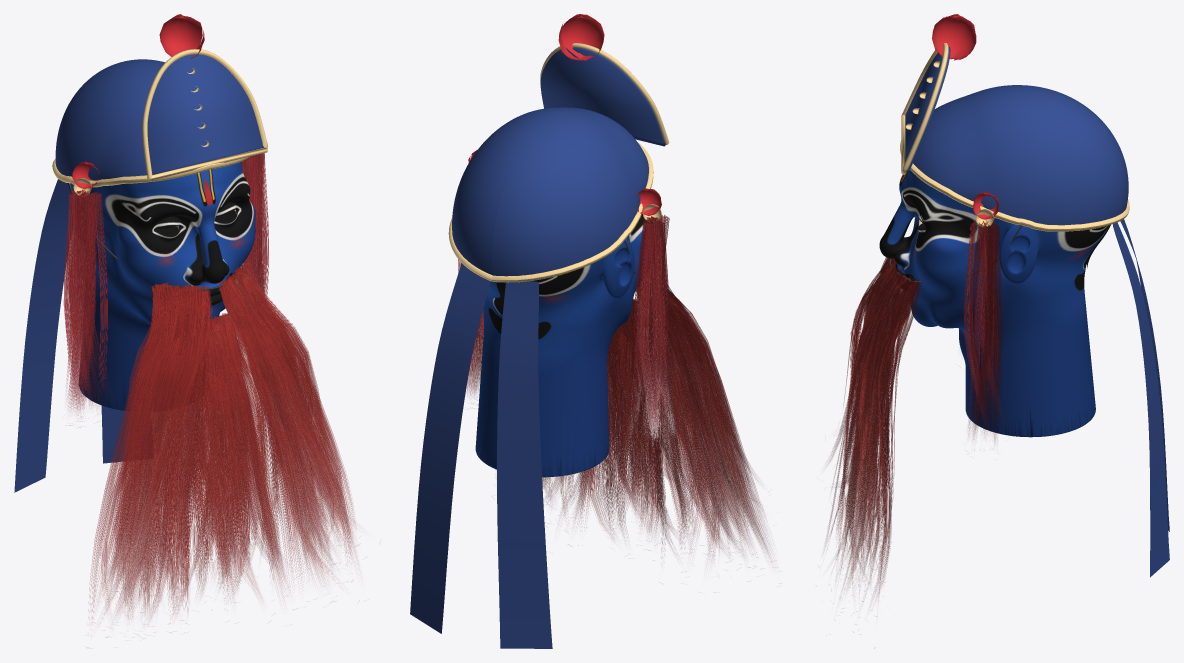
Rendered from head_douerdun.glb.
The picture shows the model from 3 angles, left to right: view 1: azimuth 30°, elevation 25°; view 2: azimuth 150°, elevation 25°; view 3: azimuth 270°, elevation 25°; orthographic projection. The views are drawn at different scales.
Parts seen in each view (by area): view 1: Beard, Face, Zhajin_Ribbon, Zhajin_Tassel, Zhajin_Front, Zhajin, Zhajin_Gold, Zhajin_Pom, Zhajin_Rim; view 2: Zhajin_Ribbon, Beard, Zhajin, Face, Zhajin_Tassel, Zhajin_Front, Zhajin_Pom, Zhajin_Rim, Zhajin_Gold; view 3: Face, Zhajin, Beard, Zhajin_Tassel, Zhajin_Ribbon, Zhajin_Pom, Zhajin_Gold, Zhajin_Front, Zhajin_Rim.
Part boxes in pixels (box(x1,y1,x2,y2)): Beard: box(89, 261, 355, 632); Face: box(69, 161, 255, 410); Zhajin_Ribbon: box(14, 179, 151, 492); Zhajin_Tassel: box(63, 153, 268, 427); Zhajin_Front: box(147, 54, 264, 174); Zhajin: box(55, 59, 164, 180); Zhajin_Gold: box(73, 49, 267, 196); Zhajin_Pom: box(72, 14, 204, 189); Zhajin_Rim: box(52, 156, 249, 187); Zhajin_Ribbon: box(410, 263, 552, 648); Beard: box(542, 286, 768, 557); Zhajin: box(452, 107, 648, 276); Face: box(475, 214, 644, 477); Zhajin_Tassel: box(458, 215, 675, 448); Zhajin_Front: box(540, 47, 665, 146); Zhajin_Pom: box(468, 14, 661, 215); Zhajin_Rim: box(448, 142, 653, 282); Zhajin_Gold: box(540, 43, 669, 221); Face: box(879, 170, 1109, 437); Zhajin: box(913, 85, 1128, 225); Beard: box(825, 257, 920, 601); Zhajin_Tassel: box(963, 220, 1002, 440); Zhajin_Ribbon: box(1113, 219, 1169, 577); Zhajin_Pom: box(932, 14, 999, 219); Zhajin_Gold: box(901, 43, 994, 226); Zhajin_Front: box(905, 46, 950, 173); Zhajin_Rim: box(900, 140, 1129, 231).
Bounding box in the file's own units: 0.325 × 0.6264 × 0.3462.
9 materials, 4 textured.
